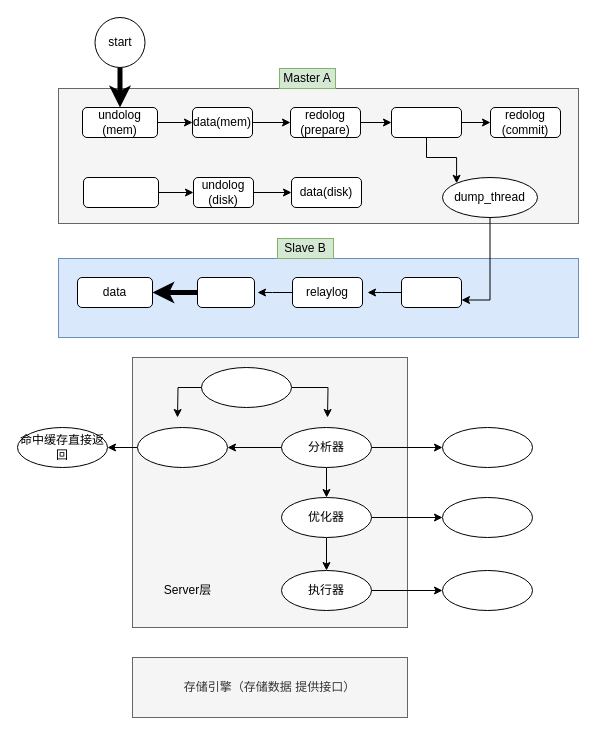
Image size: 596x735. Some labels were removed from this diagram. The box of each missing label's shape, as (x1, y1, x2, y2) in pixels:
bg_thread: (82, 176, 158, 208)
binlog: (390, 106, 462, 138)
io_thread: (400, 276, 462, 308)
sql_thread: (196, 276, 254, 308)
执行计划生成、索引选择: (442, 496, 532, 538)
缓存器: (136, 426, 228, 468)
词法分析、语法分析: (442, 426, 532, 468)
调用存储引擎: (442, 570, 532, 610)
连接器: (200, 366, 292, 408)
